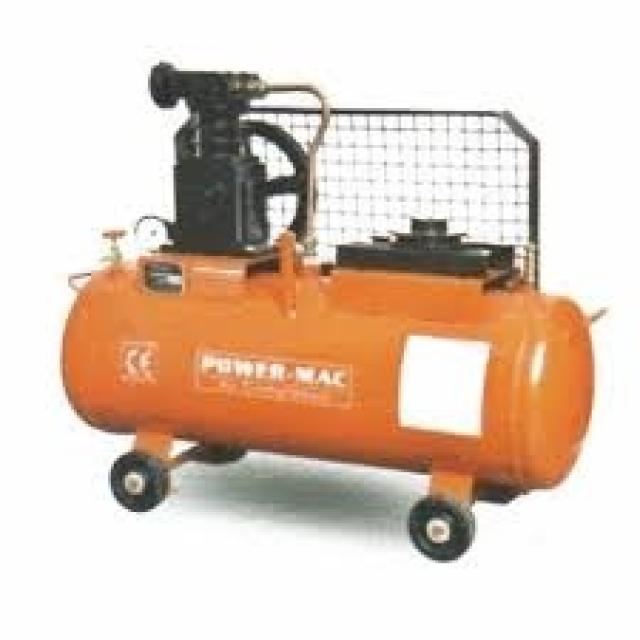compressor: (40, 36, 606, 560)
